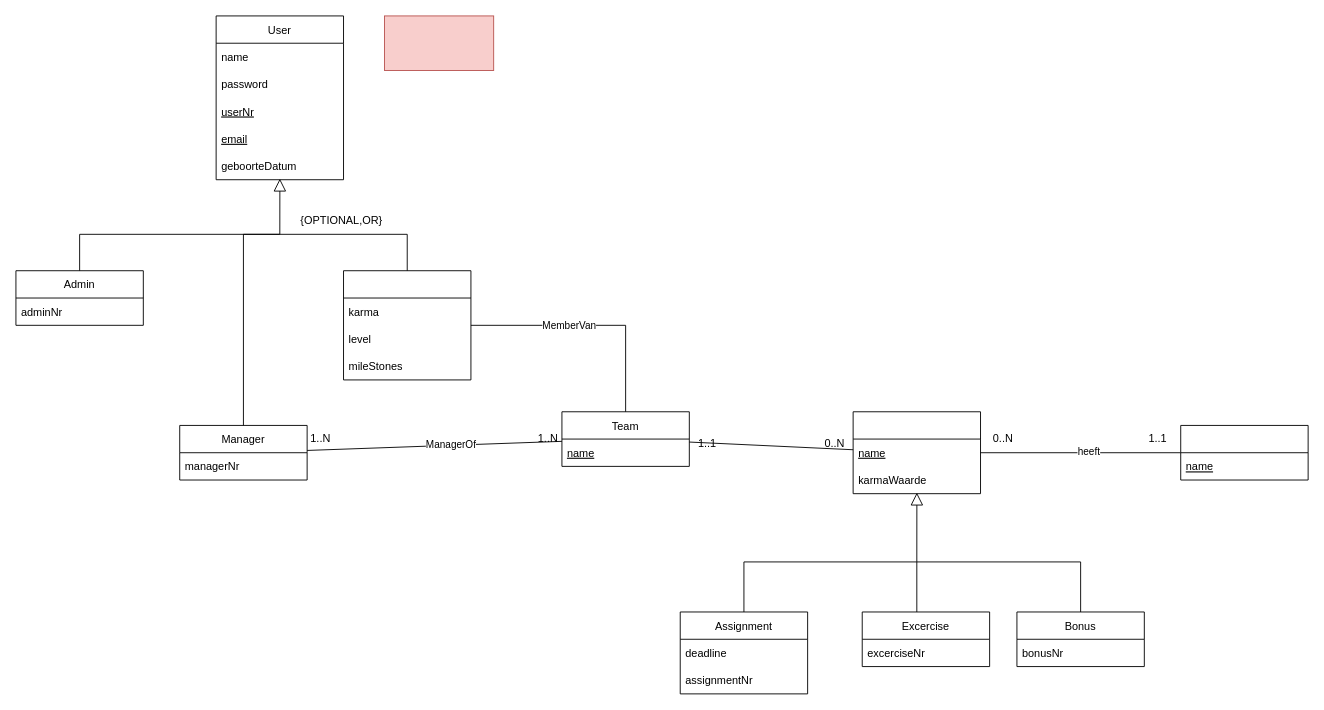
Some shapes in this 1324 by 710 pixel diagram are drawn without their labels. The shapes that lost their labels are listed below. From the top down, each one's box as (x1, y1, x2, y2) in pixels, then its label:
(384, 15, 494, 71): Hoe profielfotos bijhouden ??
(343, 270, 471, 380): Member
(852, 411, 981, 494): Quests
(1180, 425, 1308, 480): Category
